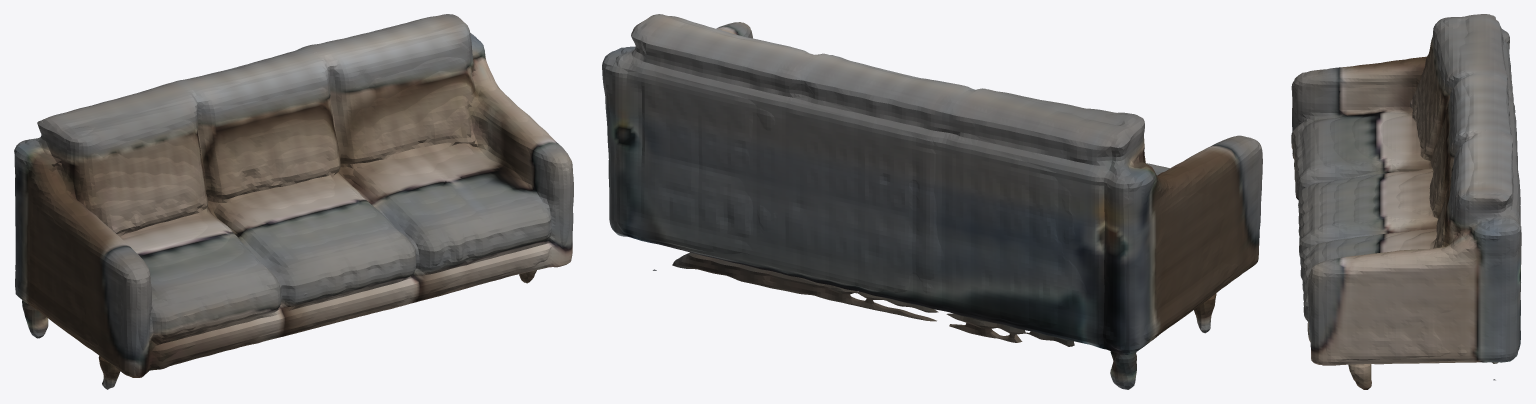
Rendered from sofa-005.glb.
3 views of the same model, side by side, from view 1: azimuth 30°, elevation 25°; view 2: azimuth 150°, elevation 25°; view 3: azimuth 270°, elevation 25° (orthographic). The views are drawn at different scales.
Visible parts, largest first — view 1: geometry_0; view 2: geometry_0; view 3: geometry_0.
Boxes of the visible parts, x1,y1,x2,y2 form: geometry_0: (14,14,573,389); geometry_0: (602,14,1262,389); geometry_0: (1291,14,1521,389).
Bounding box in the file's own units: 190 × 86 × 90.
